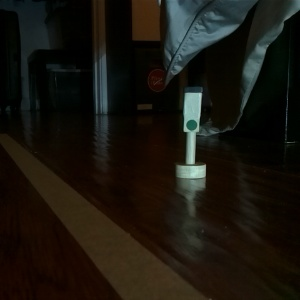traffic light green: (173, 84, 207, 181)
